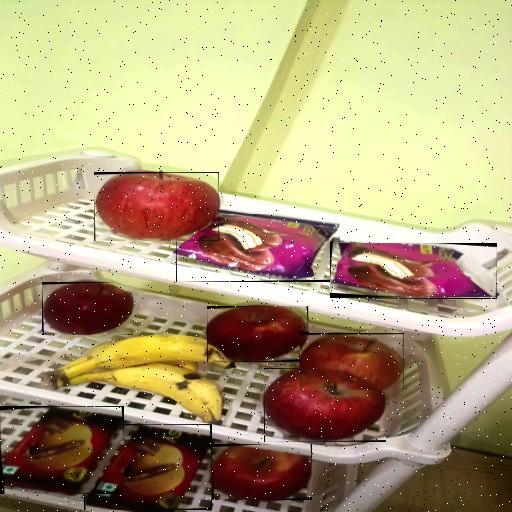Apple: (264, 368, 386, 442), (94, 172, 219, 241), (300, 333, 404, 390), (208, 306, 310, 362), (212, 444, 312, 500), (42, 282, 133, 335)
Choco Fills: (84, 424, 212, 510), (0, 406, 124, 494)
Choco Pie: (176, 214, 340, 282), (330, 244, 497, 300)
